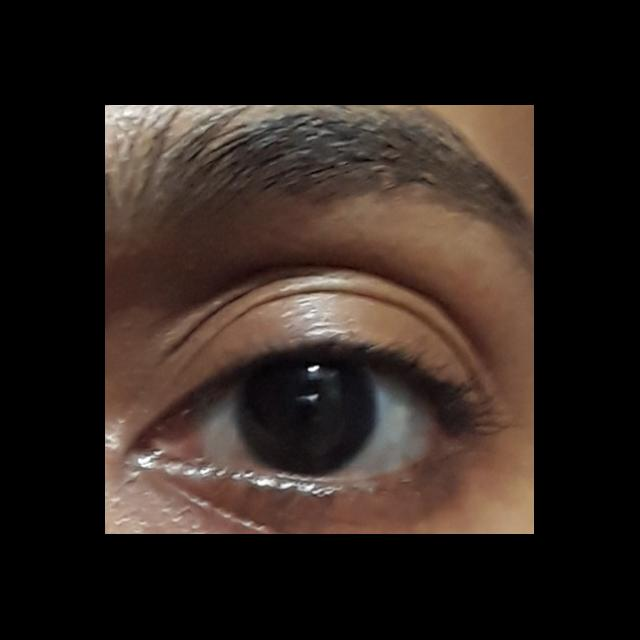eye: (200, 354, 441, 484)
iris: (239, 361, 379, 476)
